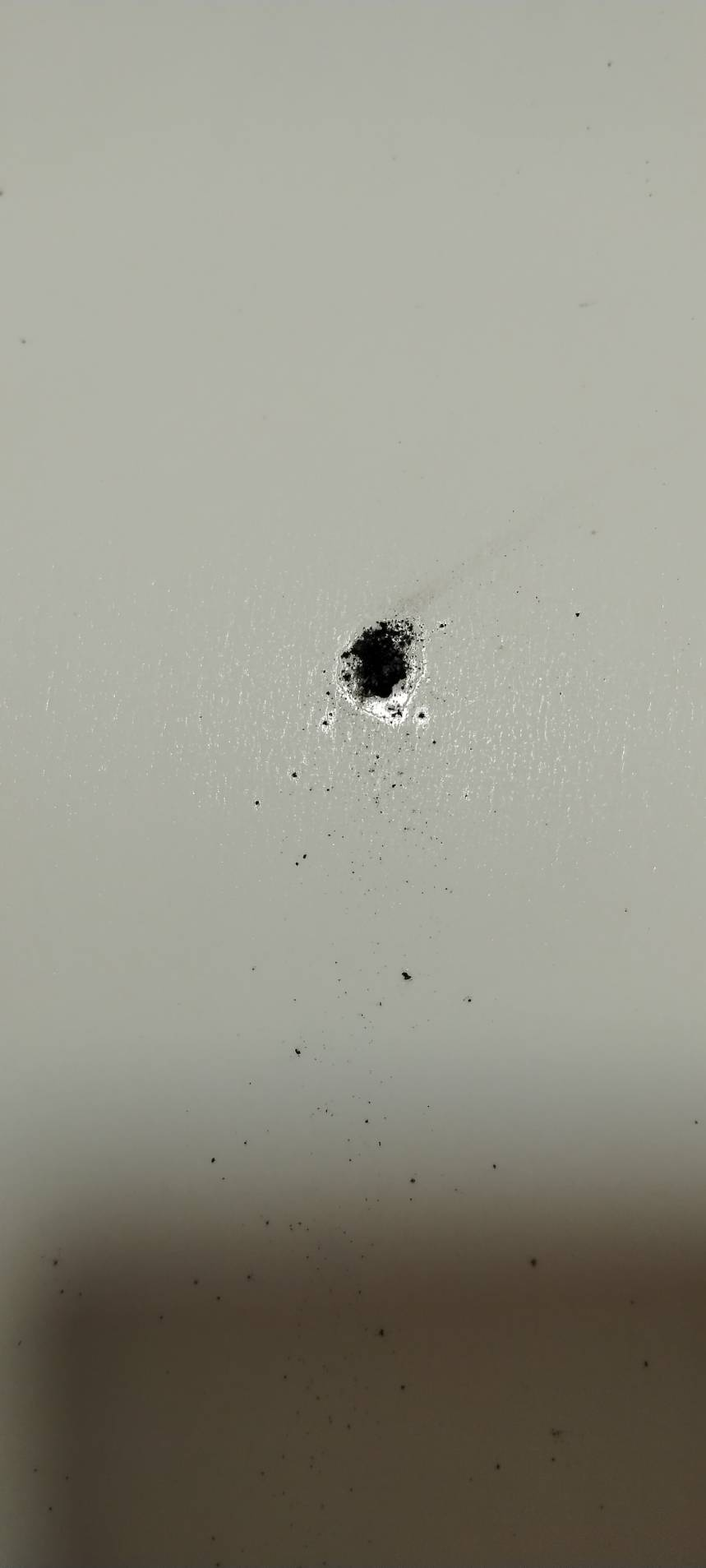contaminate: (323, 609, 444, 731)
